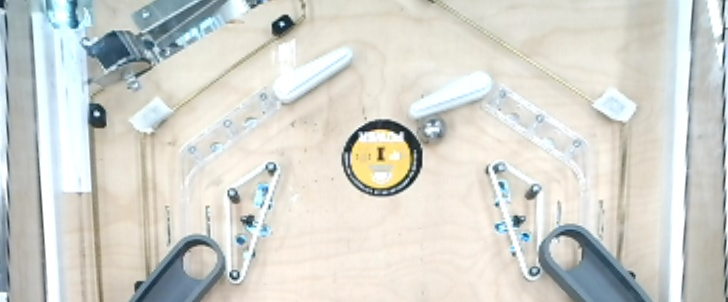ball: (415, 117, 451, 147)
flipper-left: (409, 68, 499, 120)
flipper-right: (269, 45, 355, 106)
